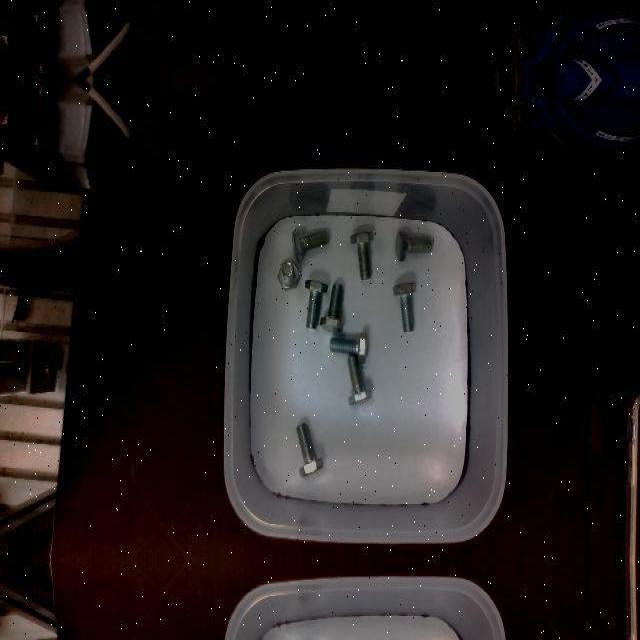screw: (296, 422, 323, 476), (347, 353, 372, 403), (329, 331, 368, 363), (291, 230, 329, 262), (395, 230, 433, 262), (319, 281, 343, 331), (392, 282, 416, 332), (349, 231, 373, 279), (305, 279, 328, 329), (276, 260, 300, 290)
